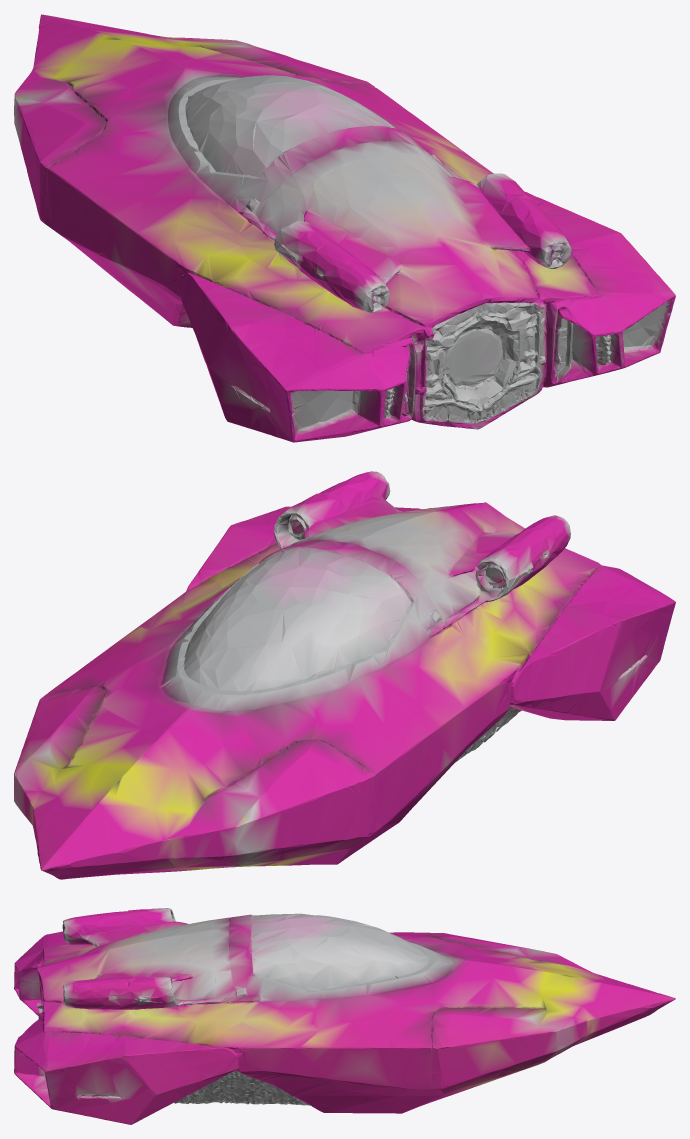
Rendered from pixie_hi.glb.
3 views of the same model, one above another, from view 1: azimuth 30°, elevation 25°; view 2: azimuth 150°, elevation 25°; view 3: azimuth 270°, elevation 25° (orthographic). The views are drawn at different scales.
Parts seen in each view (by area): view 1: geometry_0; view 2: geometry_0; view 3: geometry_0.
Part boxes in pixels (x1=…): geometry_0: x1=14, y1=14, x2=675, y2=442; geometry_0: x1=14, y1=471, x2=675, y2=879; geometry_0: x1=14, y1=908, x2=675, y2=1124.
Bounding box in the file's own units: 3.72 × 1.99 × 7.6.
